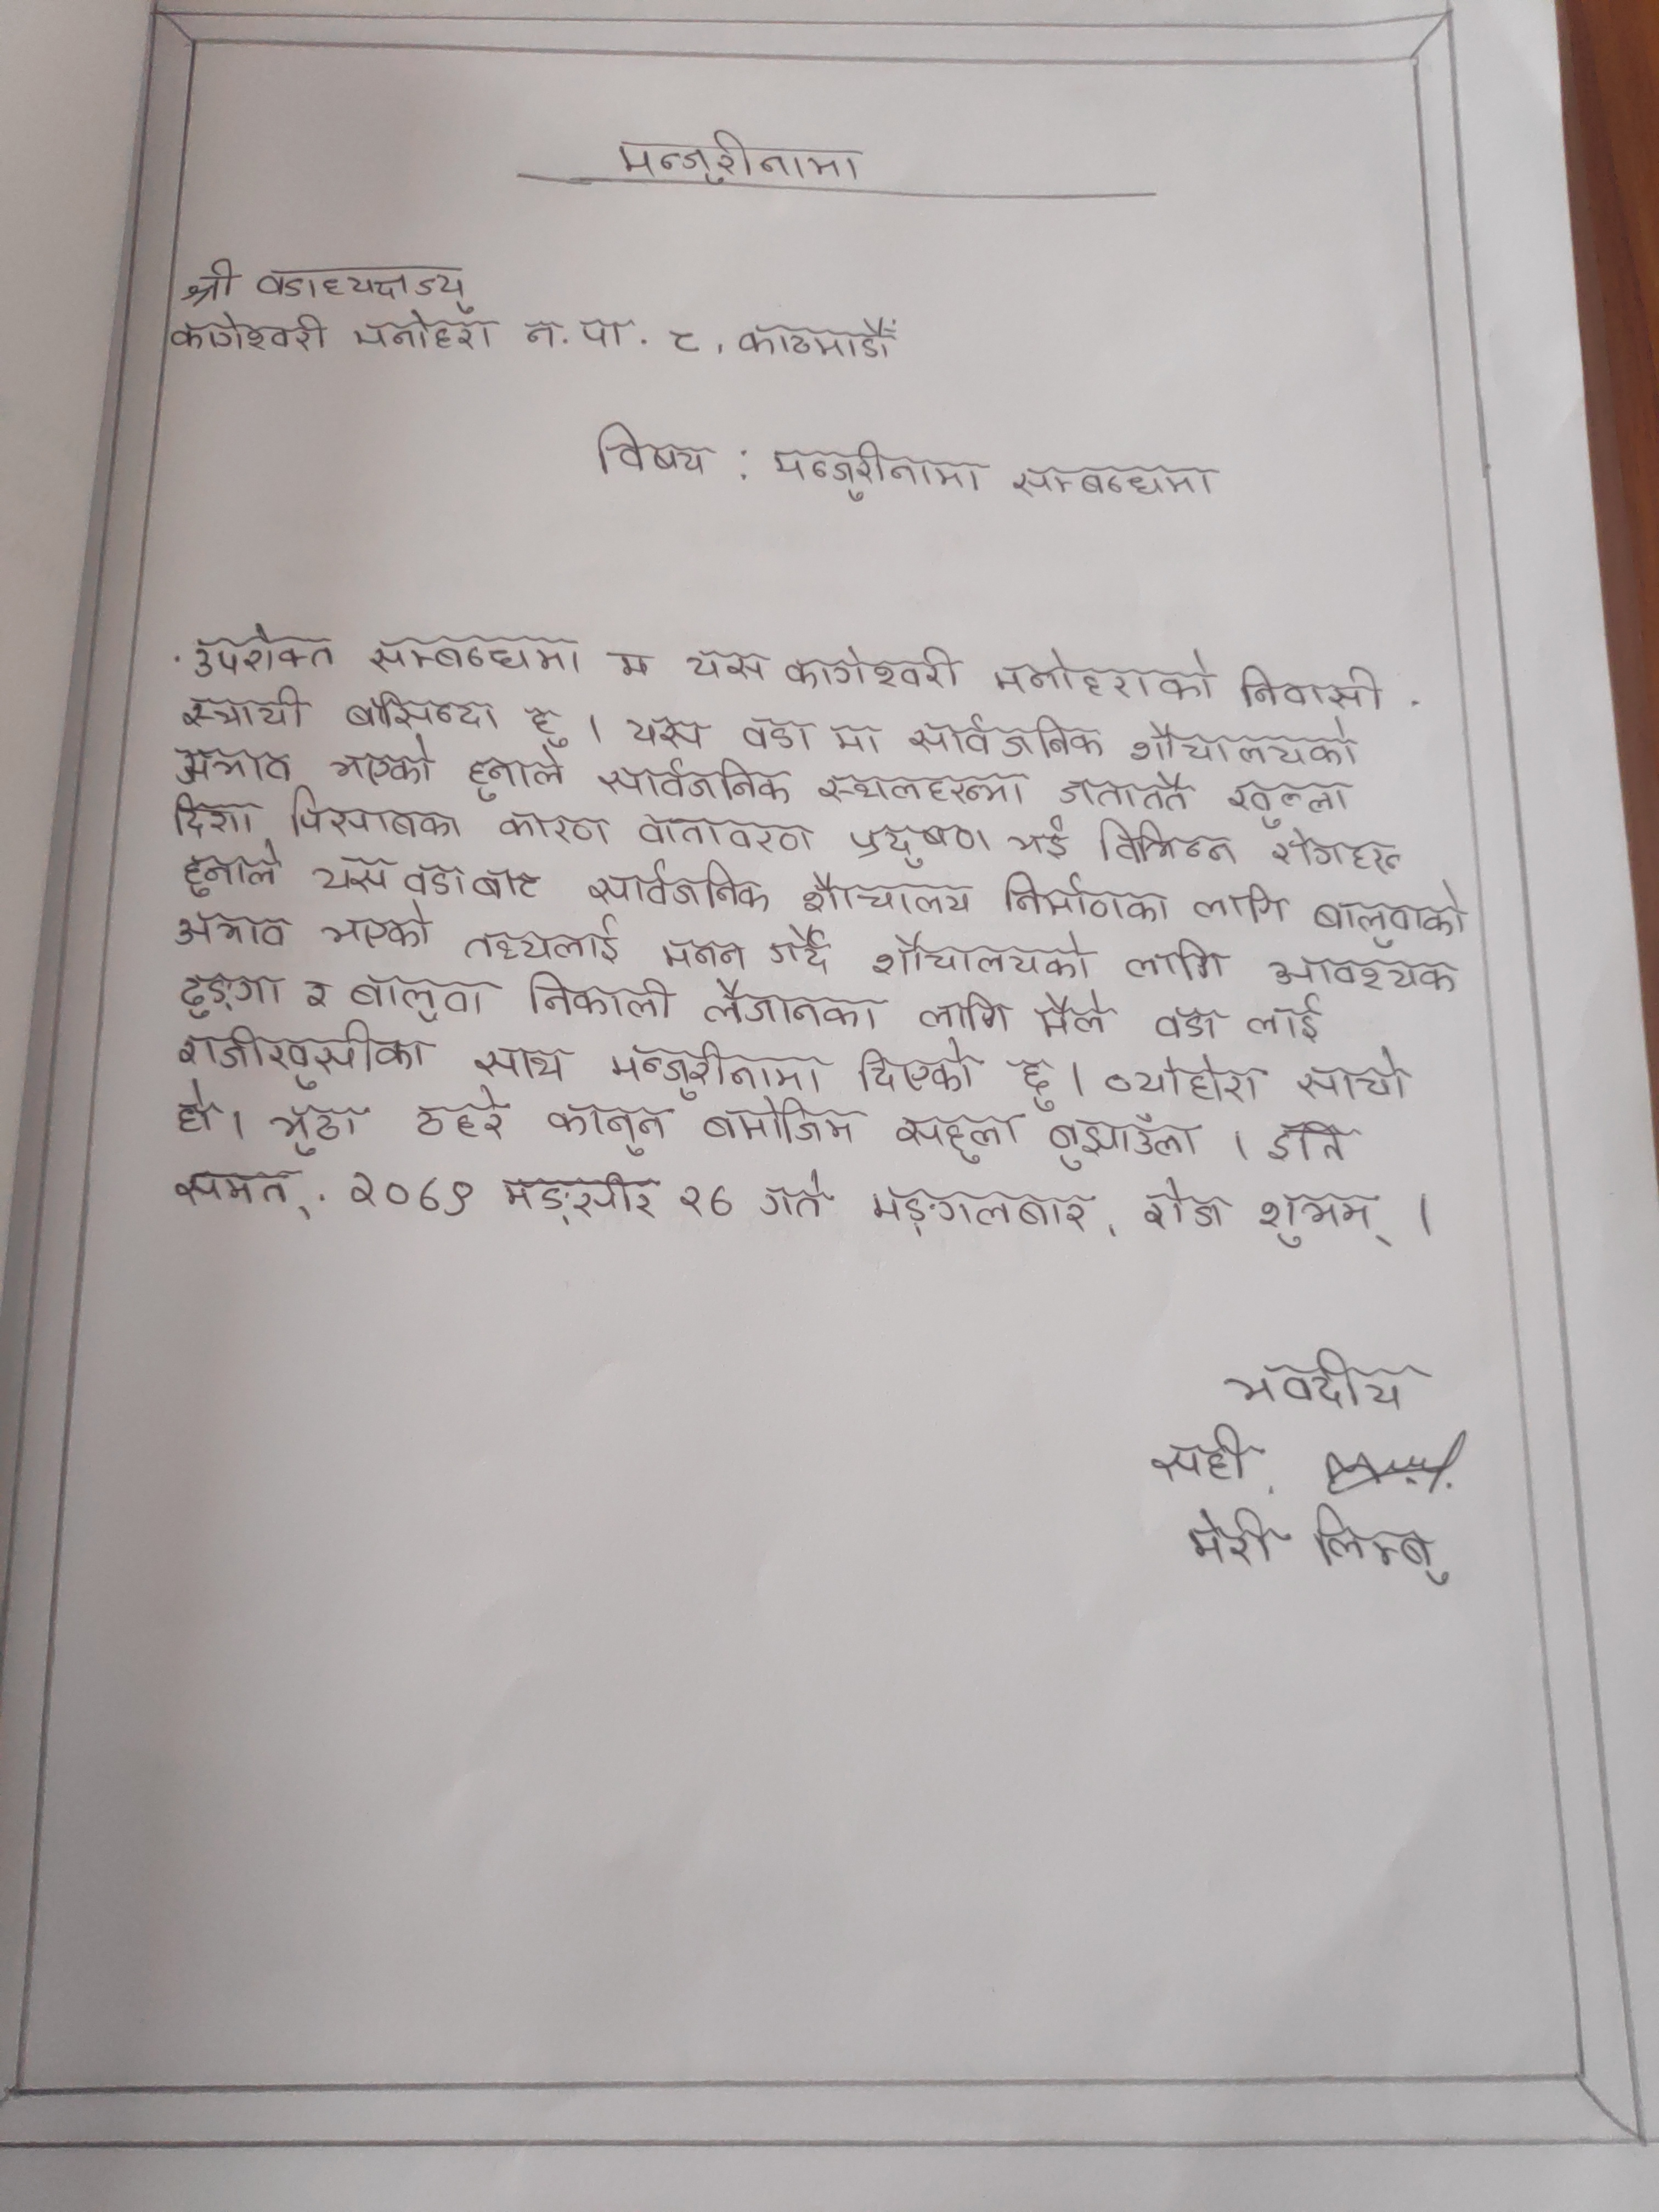text: (173, 1026, 441, 1090), (765, 437, 992, 509), (613, 129, 868, 188), (868, 1177, 1094, 1244), (606, 1038, 830, 1101), (992, 648, 1223, 705), (1307, 1500, 1455, 1587), (1223, 1348, 1434, 1409), (870, 928, 1100, 984), (251, 261, 479, 315), (1129, 716, 1363, 768), (701, 975, 885, 1040), (368, 631, 586, 683), (1312, 880, 1473, 949), (999, 869, 1173, 932), (1042, 1109, 1206, 1174), (1265, 949, 1467, 1000), (498, 1169, 666, 1230), (584, 860, 772, 914), (286, 789, 465, 845), (904, 714, 1107, 763), (784, 643, 969, 695), (634, 805, 819, 857), (1009, 460, 1222, 505), (1234, 660, 1391, 718), (598, 759, 796, 805), (802, 869, 972, 921), (737, 314, 904, 366), (1253, 1190, 1394, 1251), (458, 913, 622, 965), (1105, 1055, 1272, 1106), (695, 1096, 863, 1146), (1150, 1421, 1270, 1491), (814, 770, 1032, 808), (591, 420, 716, 486), (192, 622, 340, 678), (849, 815, 995, 869), (169, 1169, 314, 1223), (523, 970, 676, 1021), (350, 970, 502, 1021), (1223, 772, 1354, 829), (1096, 817, 1243, 867), (349, 312, 502, 359), (167, 314, 333, 357), (1267, 826, 1405, 878), (857, 1042, 986, 1097), (540, 1108, 676, 1160), (890, 1111, 1021, 1165), (342, 1169, 476, 1221), (181, 685, 314, 737), (1185, 1505, 1290, 1571), (1295, 1047, 1415, 1104), (342, 690, 500, 732), (326, 733, 437, 789), (321, 904, 439, 956), (1058, 766, 1194, 812), (404, 860, 545, 904), (465, 744, 568, 803), (267, 1103, 369, 1160), (410, 1089, 518, 1143), (173, 745, 298, 791), (166, 909, 291, 954), (173, 970, 284, 1021), (179, 850, 289, 900), (1119, 941, 1232, 988), (1140, 1177, 1232, 1235), (519, 312, 634, 354), (755, 1169, 836, 1226), (498, 808, 613, 848), (1190, 881, 1291, 927), (167, 791, 263, 838), (917, 988, 1016, 1033), (1030, 989, 1114, 1042), (1243, 998, 1333, 1045), (1262, 1116, 1354, 1162), (469, 1047, 577, 1085), (652, 934, 753, 974), (626, 712, 716, 756), (735, 711, 823, 754), (310, 852, 397, 895), (765, 927, 836, 977), (685, 644, 767, 688), (169, 1076, 221, 1137), (183, 261, 244, 312), (1012, 1055, 1061, 1116), (1152, 1005, 1225, 1043), (525, 702, 579, 751), (673, 1179, 735, 1221), (1007, 824, 1073, 860), (831, 716, 885, 754), (606, 648, 659, 685), (301, 975, 331, 1010), (667, 329, 699, 359)
